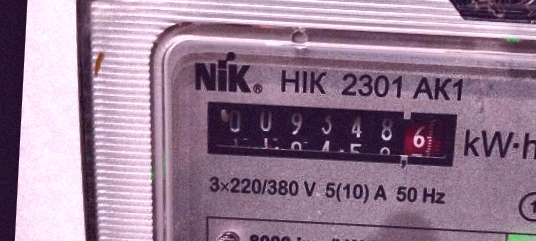0: (227, 106, 241, 133), (257, 108, 273, 131)
3: (318, 110, 333, 137)
4: (348, 111, 363, 139)
6: (409, 122, 428, 150)
8: (378, 114, 394, 143)
9: (287, 109, 303, 136)
screen: (195, 93, 467, 176)
